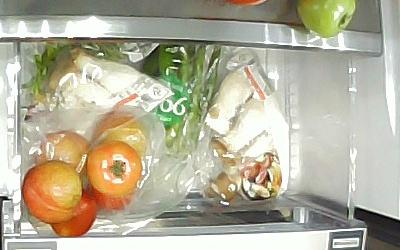prune: (21, 158, 82, 223), (85, 139, 142, 195), (48, 189, 95, 236)
prune_vinyl: (90, 108, 151, 157), (33, 128, 91, 172), (86, 182, 131, 212)
